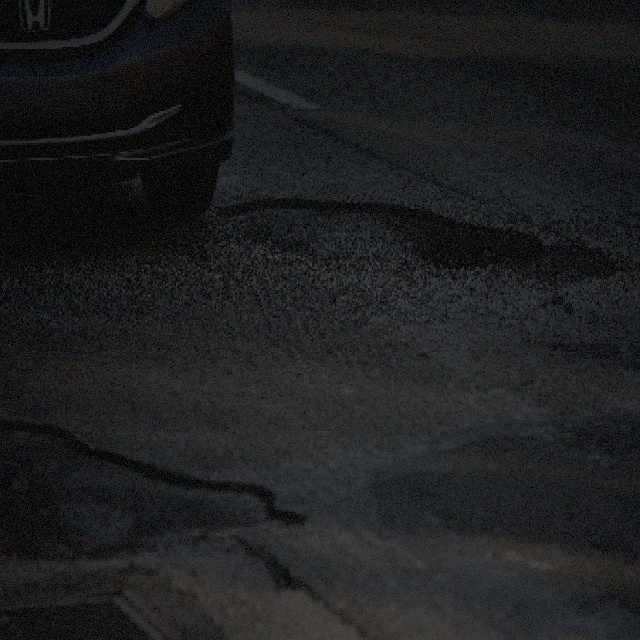pothole: (0, 412, 305, 561), (217, 190, 545, 275)
